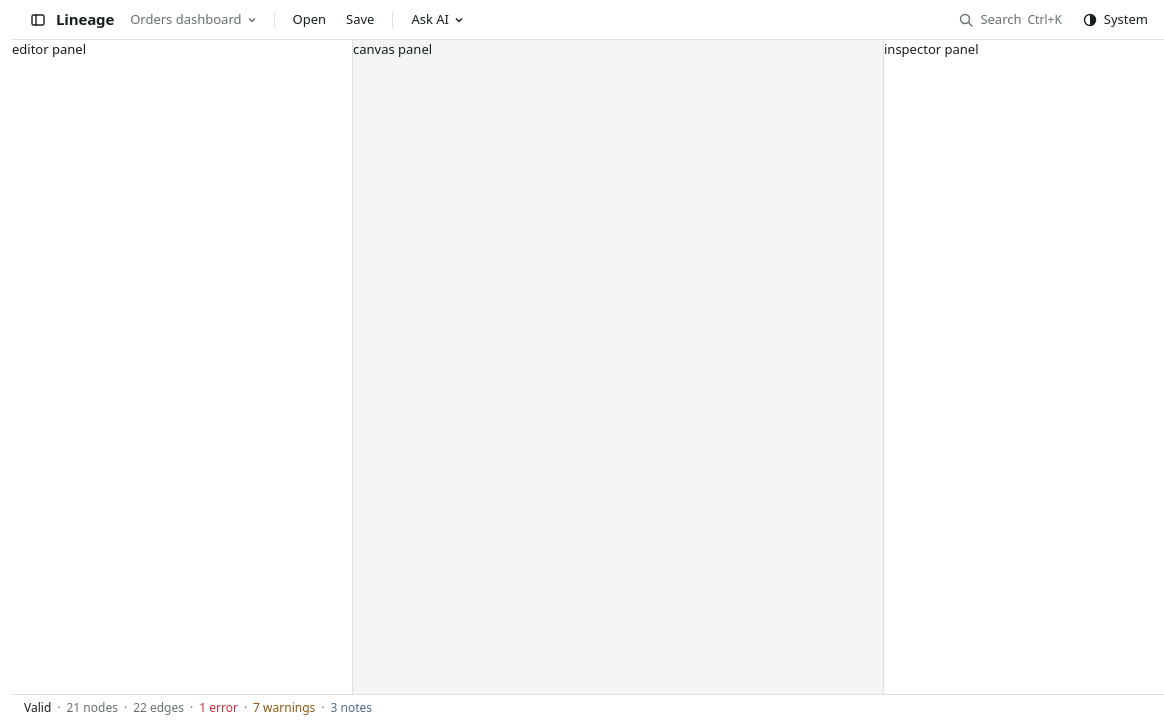
Scenario: top bar › shows the open file and marks unsaved changes
The image size is (1164, 720).
Click the button "Open" at (309, 20), box [284,6,334,34]
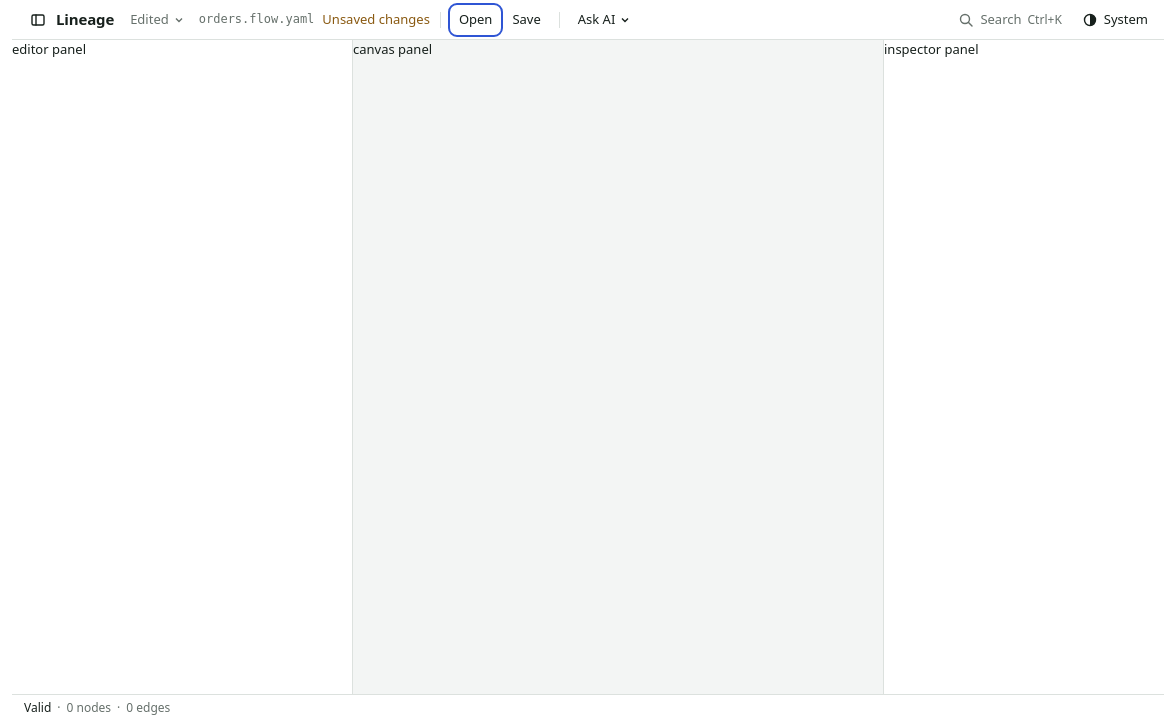
Expected: the button "On disk" is shown, [122,6,191,34]
Now the text "orders.flow.yaml" is shown, box [199,11,314,28]
Now the text "Unsaved changes" is shown, box [322,10,430,29]
